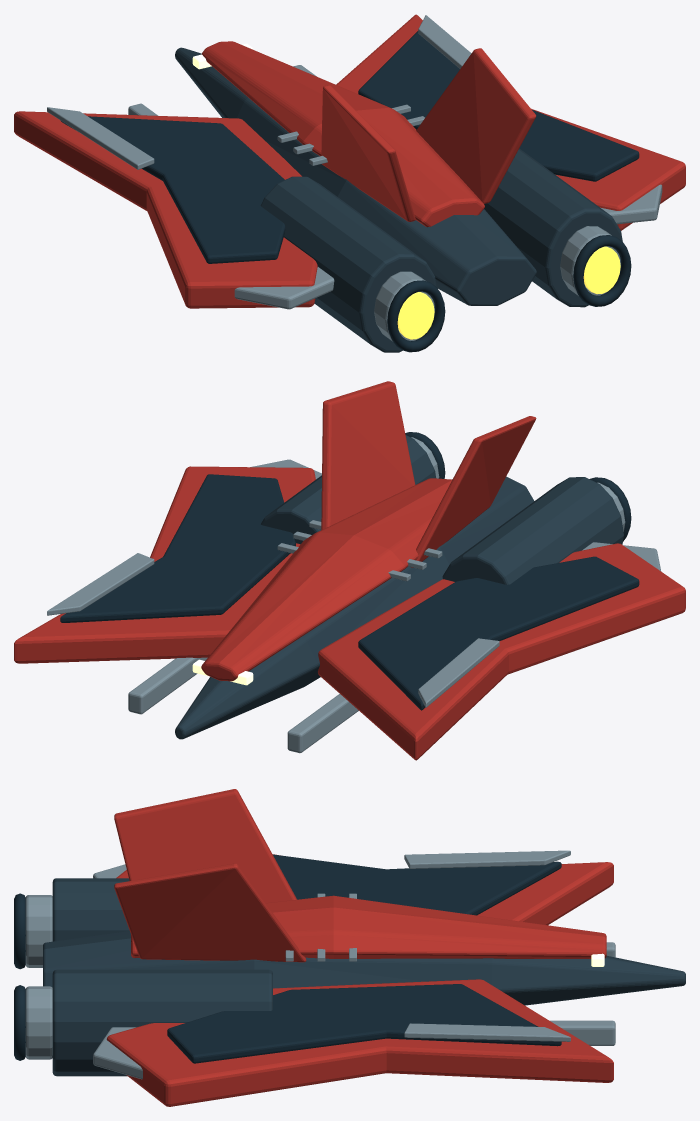
The model's file is InterceptorA.fbx.
The picture shows the model from 3 angles, top to bottom: view 1: azimuth 30°, elevation 25°; view 2: azimuth 150°, elevation 25°; view 3: azimuth 270°, elevation 25°; orthographic projection.
Visible parts, largest first — view 1: GFC2_InterceptorA_BladeWing_L, GFC2_InterceptorA_WingPanel_L, GFC2_InterceptorA_Core, GFC2_InterceptorA_Armor, GFC2_InterceptorA_Engine_L, GFC2_InterceptorA_Fin_R, GFC2_InterceptorA_WingPanel_R, GFC2_InterceptorA_Engine_R, GFC2_InterceptorA_Fin_L, GFC2_InterceptorA_BladeWing_R, GFC2_InterceptorA_SilverEdge_L, GFC2_InterceptorA_NozzleLip_R (+9 smaller); view 2: GFC2_InterceptorA_BladeWing_L, GFC2_InterceptorA_Armor, GFC2_InterceptorA_WingPanel_R, GFC2_InterceptorA_WingPanel_L, GFC2_InterceptorA_BladeWing_R, GFC2_InterceptorA_Core, GFC2_InterceptorA_Fin_R, GFC2_InterceptorA_Engine_L, GFC2_InterceptorA_Fin_L, GFC2_InterceptorA_Engine_R, GFC2_InterceptorA_SilverEdge_R, GFC2_InterceptorA_Gun_R (+3 smaller); view 3: GFC2_InterceptorA_BladeWing_R, GFC2_InterceptorA_Core, GFC2_InterceptorA_WingPanel_R, GFC2_InterceptorA_Armor, GFC2_InterceptorA_Engine_R, GFC2_InterceptorA_Fin_R, GFC2_InterceptorA_Fin_L, GFC2_InterceptorA_WingPanel_L, GFC2_InterceptorA_BladeWing_L, GFC2_InterceptorA_Engine_L, GFC2_InterceptorA_SilverEdge_L, GFC2_InterceptorA_SilverEdge_R (+6 smaller).
Boxes of the visible parts, <box> form: GFC2_InterceptorA_BladeWing_L: <box>14,111,317,308</box>; GFC2_InterceptorA_WingPanel_L: <box>60,116,285,263</box>; GFC2_InterceptorA_Core: <box>175,47,536,305</box>; GFC2_InterceptorA_Armor: <box>201,41,484,227</box>; GFC2_InterceptorA_Engine_L: <box>260,176,436,352</box>; GFC2_InterceptorA_Fin_R: <box>416,48,536,203</box>; GFC2_InterceptorA_WingPanel_R: <box>358,31,639,181</box>; GFC2_InterceptorA_Engine_R: <box>484,148,622,307</box>; GFC2_InterceptorA_Fin_L: <box>321,85,415,221</box>; GFC2_InterceptorA_BladeWing_R: <box>336,14,685,230</box>; GFC2_InterceptorA_SilverEdge_L: <box>47,107,154,169</box>; GFC2_InterceptorA_NozzleLip_R: <box>573,235,631,306</box>; GFC2_InterceptorA_BladeWing_L: <box>318,543,685,760</box>; GFC2_InterceptorA_Armor: <box>201,478,451,681</box>; GFC2_InterceptorA_WingPanel_R: <box>60,474,295,622</box>; GFC2_InterceptorA_WingPanel_L: <box>358,556,639,710</box>; GFC2_InterceptorA_BladeWing_R: <box>14,466,315,663</box>; GFC2_InterceptorA_Core: <box>175,476,534,739</box>; GFC2_InterceptorA_Fin_R: <box>321,381,415,529</box>; GFC2_InterceptorA_Engine_L: <box>442,477,623,584</box>; GFC2_InterceptorA_Fin_L: <box>411,416,536,567</box>; GFC2_InterceptorA_Engine_R: <box>261,435,435,544</box>; GFC2_InterceptorA_SilverEdge_R: <box>47,553,154,615</box>; GFC2_InterceptorA_Gun_R: <box>128,657,207,714</box>; GFC2_InterceptorA_BladeWing_R: <box>106,979,613,1106</box>; GFC2_InterceptorA_Core: <box>43,931,685,1005</box>; GFC2_InterceptorA_WingPanel_R: <box>167,984,561,1063</box>; GFC2_InterceptorA_Armor: <box>131,895,606,958</box>; GFC2_InterceptorA_Engine_R: <box>52,969,272,1076</box>; GFC2_InterceptorA_Fin_R: <box>114,863,306,962</box>; GFC2_InterceptorA_Fin_L: <box>114,789,296,902</box>; GFC2_InterceptorA_WingPanel_L: <box>273,854,561,915</box>; GFC2_InterceptorA_BladeWing_L: <box>116,854,613,925</box>; GFC2_InterceptorA_Engine_L: <box>52,878,129,941</box>; GFC2_InterceptorA_SilverEdge_L: <box>404,850,570,868</box>; GFC2_InterceptorA_SilverEdge_R: <box>404,1023,570,1041</box>.
Bounding box in the file's own units: 1.29 × 0.4889 × 1.49.
